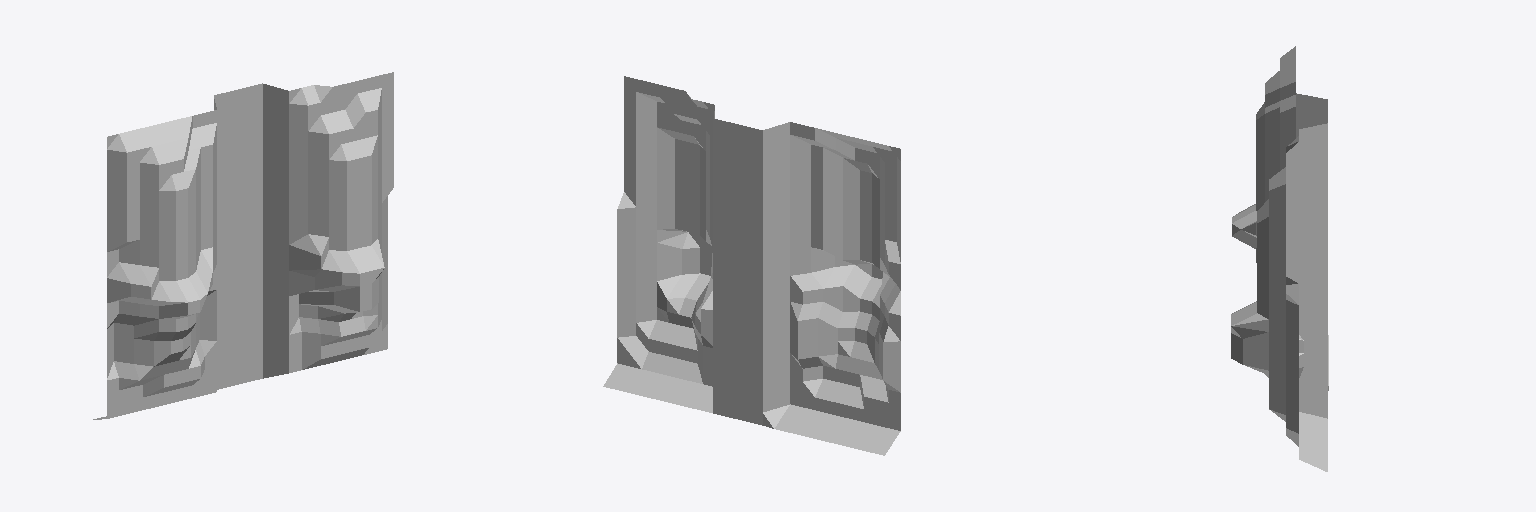
File: mountains.obj
The picture shows the model from 3 angles: view 1: azimuth 30°, elevation 25°; view 2: azimuth 150°, elevation 25°; view 3: azimuth 270°, elevation 25°; orthographic projection.
Visible parts, largest first — view 1: Plane; view 2: Plane; view 3: Plane.
Boxes of the visible parts, box(x1,y1,x2,y2) form: Plane: box(93, 72, 393, 419); Plane: box(603, 76, 900, 455); Plane: box(1231, 46, 1328, 471).
Bounding box in the file's own units: 48 × 48 × 14.4.